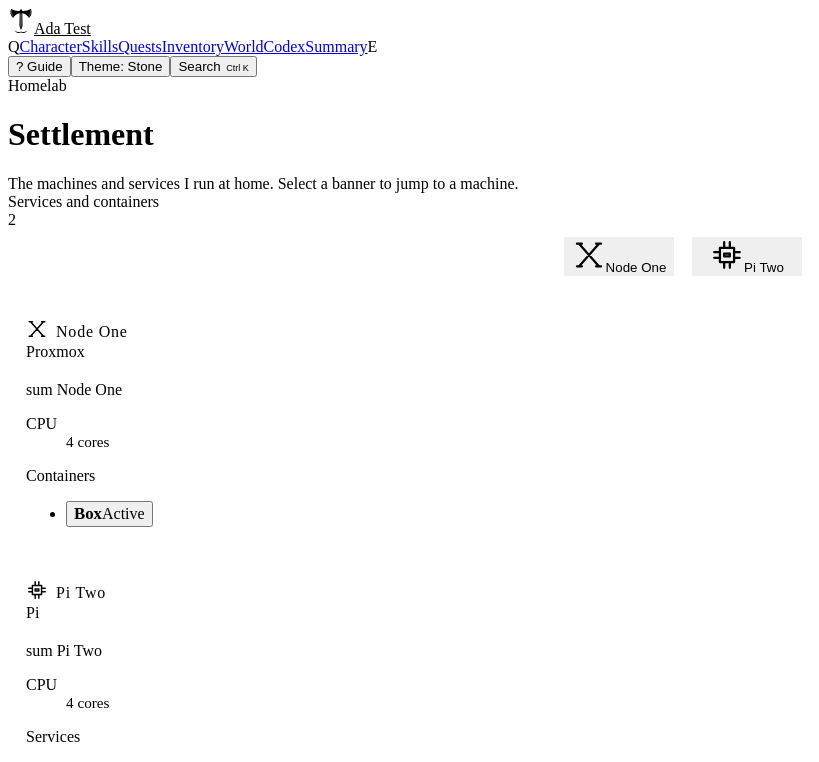
Scenario: world › has one banner per device and a services counter
Expected: the heading "Settlement" is shown, [8,116,154,152]
Expected: the buttons read "Node One", "Pi Two", in this order, [564,237,674,276]; [692,237,802,276]
Click the button "Box": point(109, 514) [66,501,153,527]
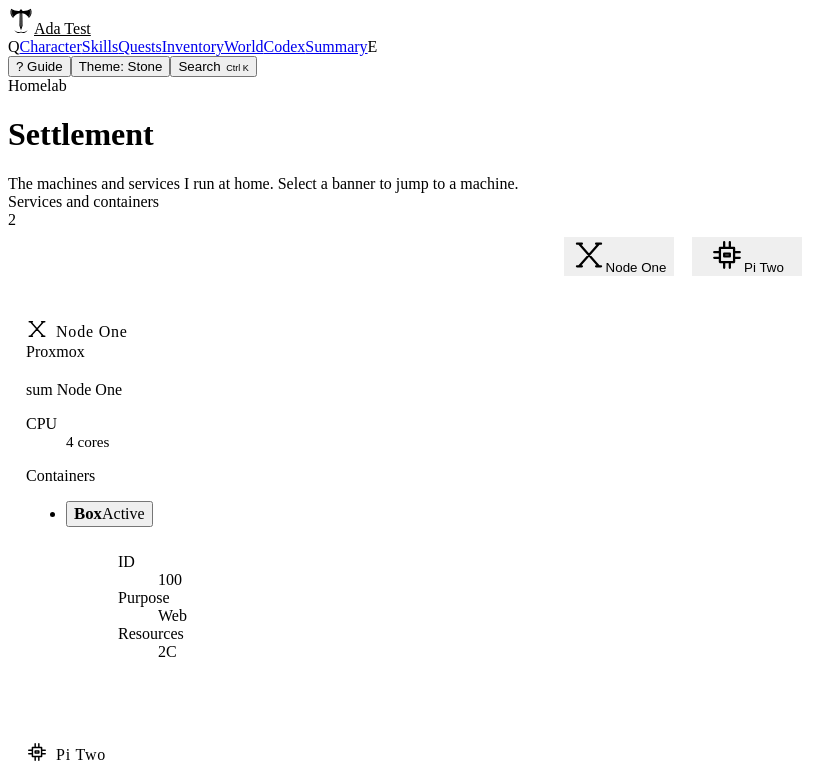
Now the text "Web" is shown, box [158,607,187,624]
